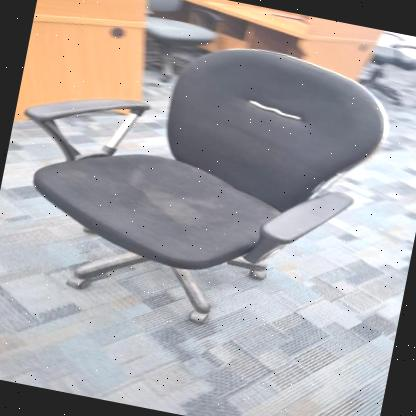chair: (0, 0, 413, 359)
